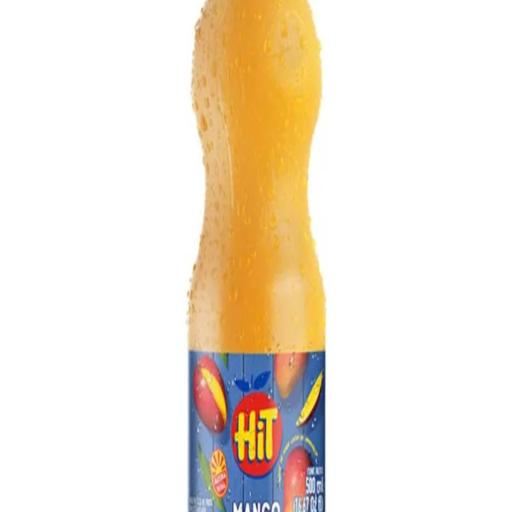JugoHM: (179, 0, 329, 512)
